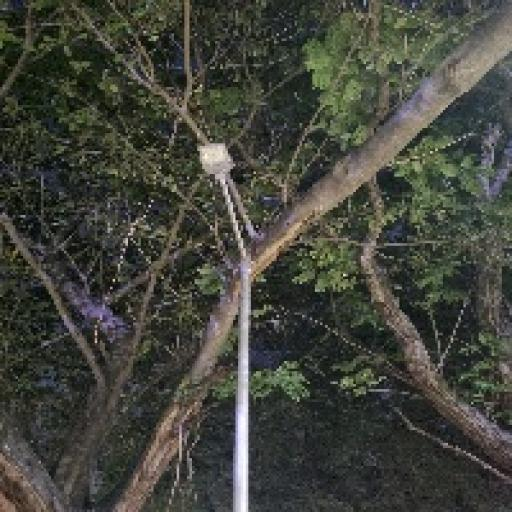Not Working: (187, 134, 245, 186)
